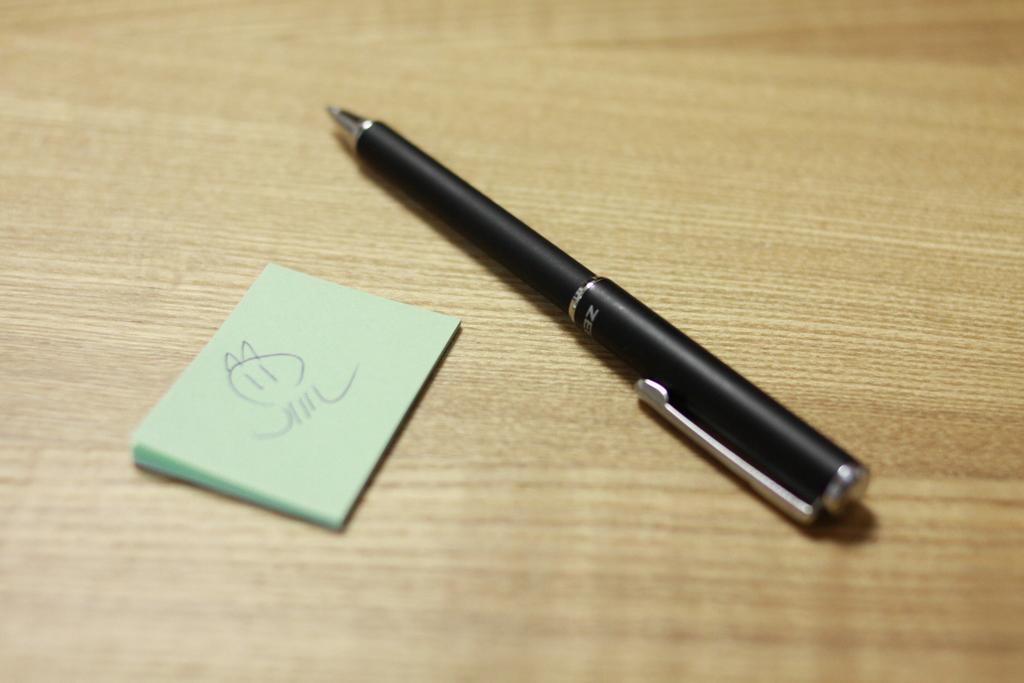pen: (325, 102, 877, 505)
